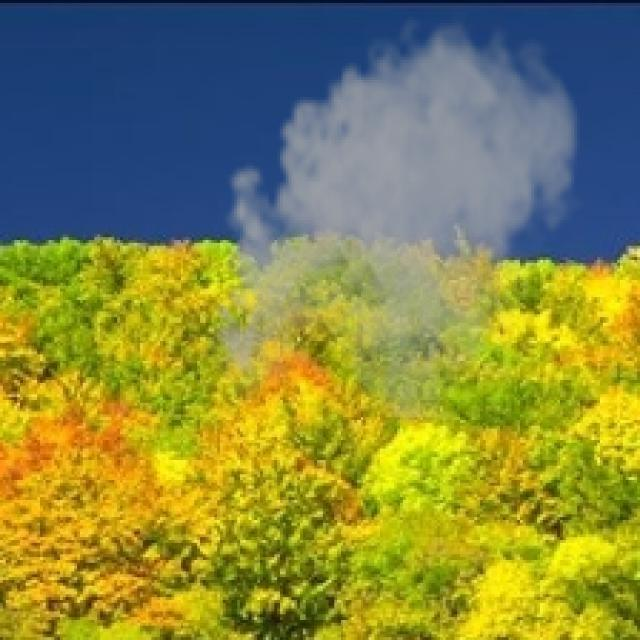Smoke: (202, 8, 588, 423)
